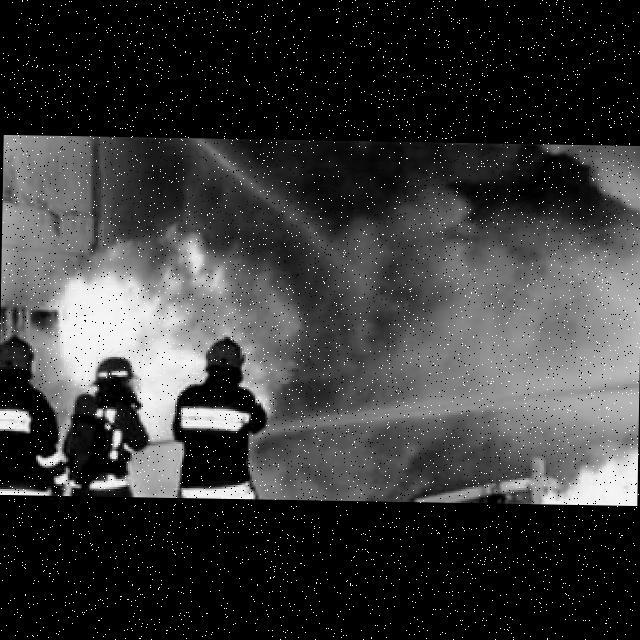Fire: (51, 228, 280, 402)
